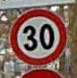limite 30: (8, 7, 67, 67)
